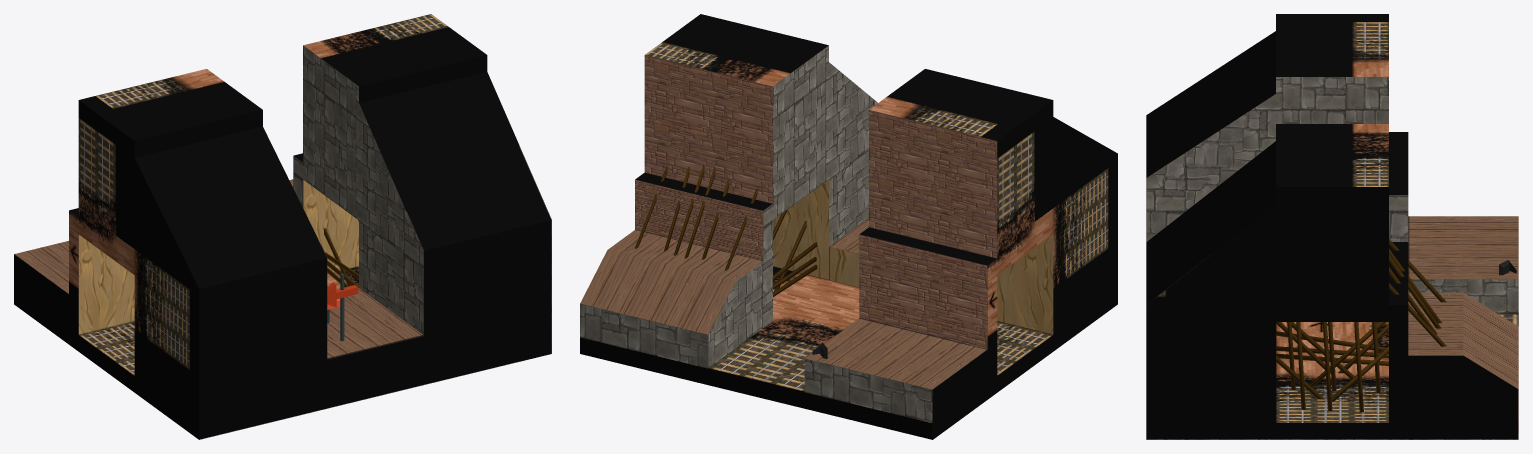
The model's file is turnR_ground.fbx.
3 renders of one model, left to right at view 1: azimuth 30°, elevation 25°; view 2: azimuth 150°, elevation 25°; view 3: azimuth 270°, elevation 25°, orthographic.
Parts seen in each view (by area): view 1: ground.Turn.R_01, wood.002; view 2: ground.Turn.R_01, wood.002; view 3: ground.Turn.R_01, wood.002.
Part boxes in pixels (x1,y1,x2,y2): ground.Turn.R_01: (14,14,551,439); wood.002: (293,186,358,287); ground.Turn.R_01: (580,14,1117,439); wood.002: (635,165,817,296); ground.Turn.R_01: (1146,14,1518,439); wood.002: (1276,239,1446,412).
Bounding box in the file's own units: 22 × 20 × 15.52.
